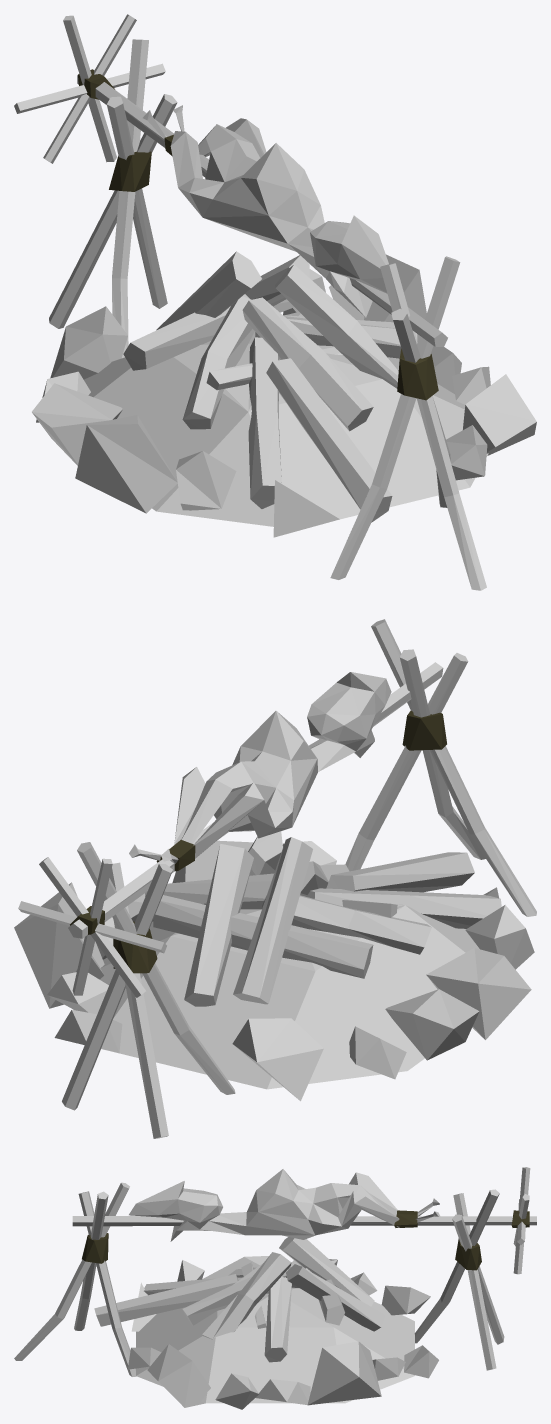
File: BARBQ_SCAV.OBJ
3 renders of one model, top to bottom at view 1: azimuth 30°, elevation 25°; view 2: azimuth 150°, elevation 25°; view 3: azimuth 270°, elevation 25°, orthographic. The views are drawn at different scales.
Parts seen in each view (by area): view 1: BARBQ_SCAV; view 2: BARBQ_SCAV; view 3: BARBQ_SCAV.
Part boxes in pixels (x1=…): BARBQ_SCAV: x1=14, y1=14, x2=536, y2=590; BARBQ_SCAV: x1=14, y1=619, x2=536, y2=1138; BARBQ_SCAV: x1=14, y1=1167, x2=536, y2=1409.
Bounding box in the file's own units: 2.36 × 1.6 × 3.96.
